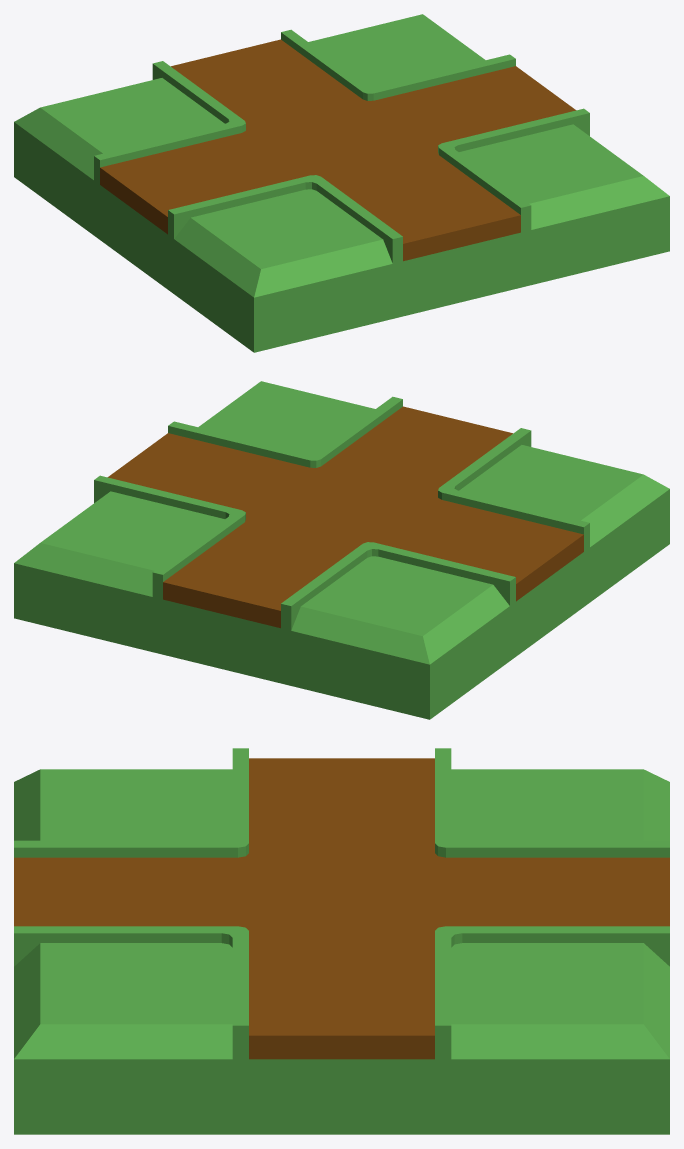
Rendered from Road_CrossTile.fbx.
3 renders of one model, top to bottom at view 1: azimuth 30°, elevation 25°; view 2: azimuth 150°, elevation 25°; view 3: azimuth 270°, elevation 25°, orthographic. The views are drawn at different scales.
Parts seen in each view (by area): view 1: Cube; view 2: Cube; view 3: Cube.
Boxes of the visible parts, x1,y1,x2,y2 form: Cube: (14,14,669,352); Cube: (14,381,669,719); Cube: (14,748,669,1134).
Size of the model in its own units: 600 by 110 by 600.
